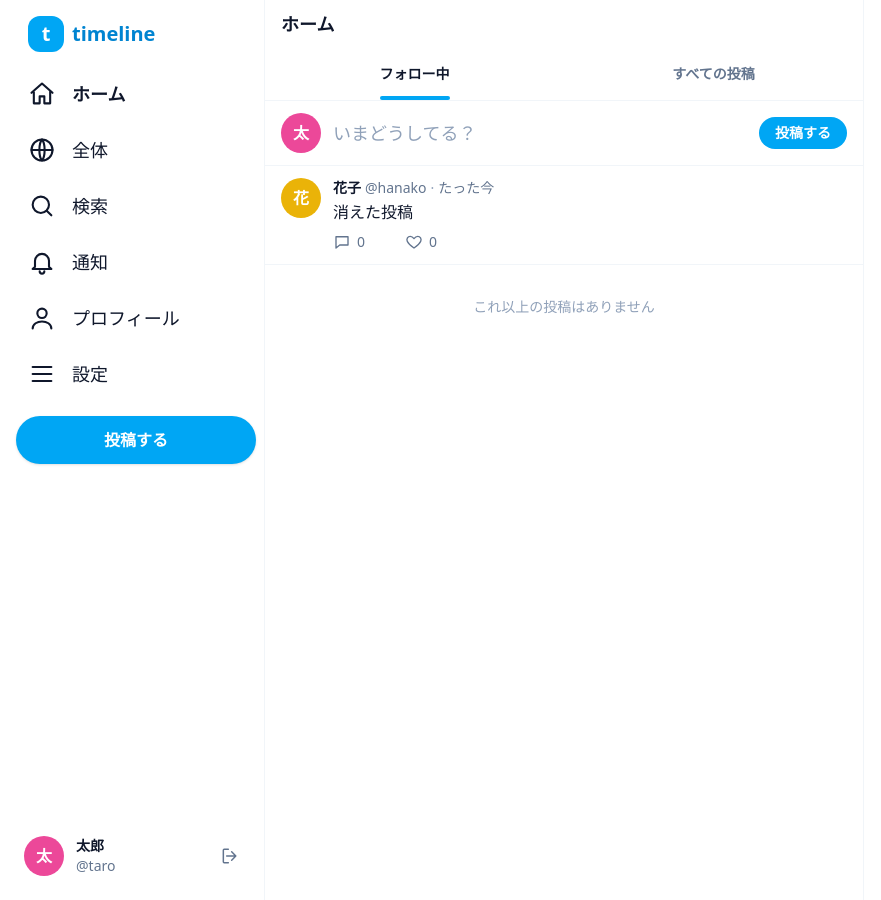
Scenario: いいね › 失敗したら元に戻してメッセージを出す
The width and height of the screenshot is (881, 900).
Click the button named "いいね（0 件）" at (421, 242), box [405,232,437,252]
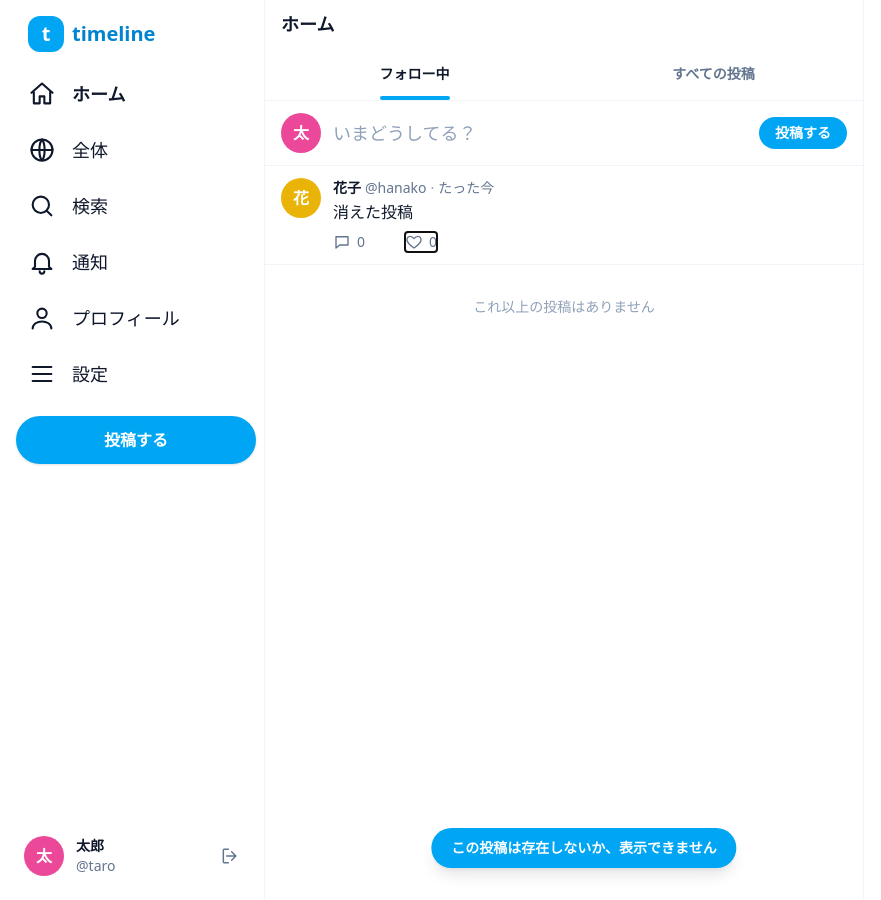
Now the text "この投稿は存在しないか、表示できません" is shown, box [431,828,737,868]
